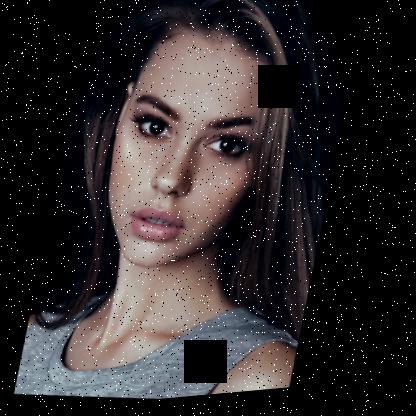Female: (89, 18, 285, 281)
